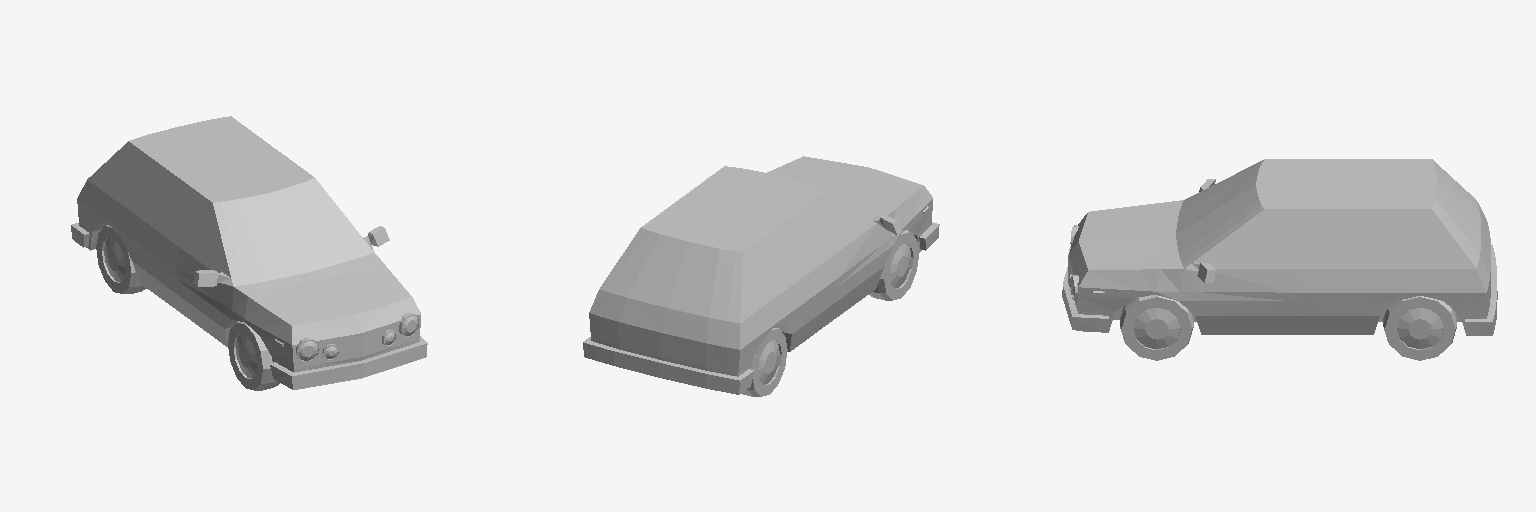
Rendered from car.obj.
3 renders of one model, left to right at view 1: azimuth 30°, elevation 25°; view 2: azimuth 150°, elevation 25°; view 3: azimuth 270°, elevation 25°, orthographic.
Parts seen in each view (by area): view 1: Car2; view 2: Car2; view 3: Car2.
Boxes of the visible parts, x1,y1,x2,y2 form: Car2: [71, 116, 427, 390]; Car2: [583, 156, 939, 396]; Car2: [1062, 159, 1497, 360].
Size of the model in its own units: 45.5 by 32.33 by 89.11.